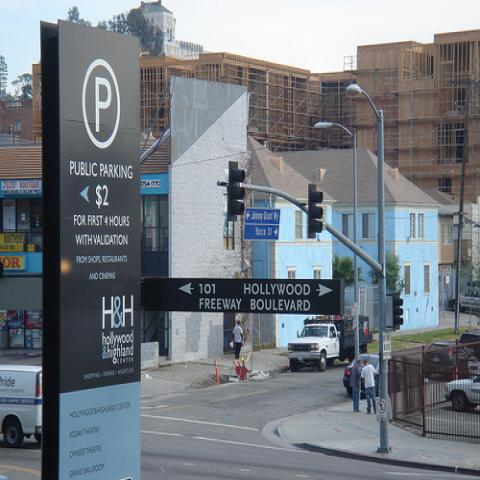car: (424, 340, 476, 386), (343, 352, 382, 396), (459, 330, 480, 361)
truck: (287, 315, 373, 373), (1, 364, 42, 447), (444, 373, 479, 412)
